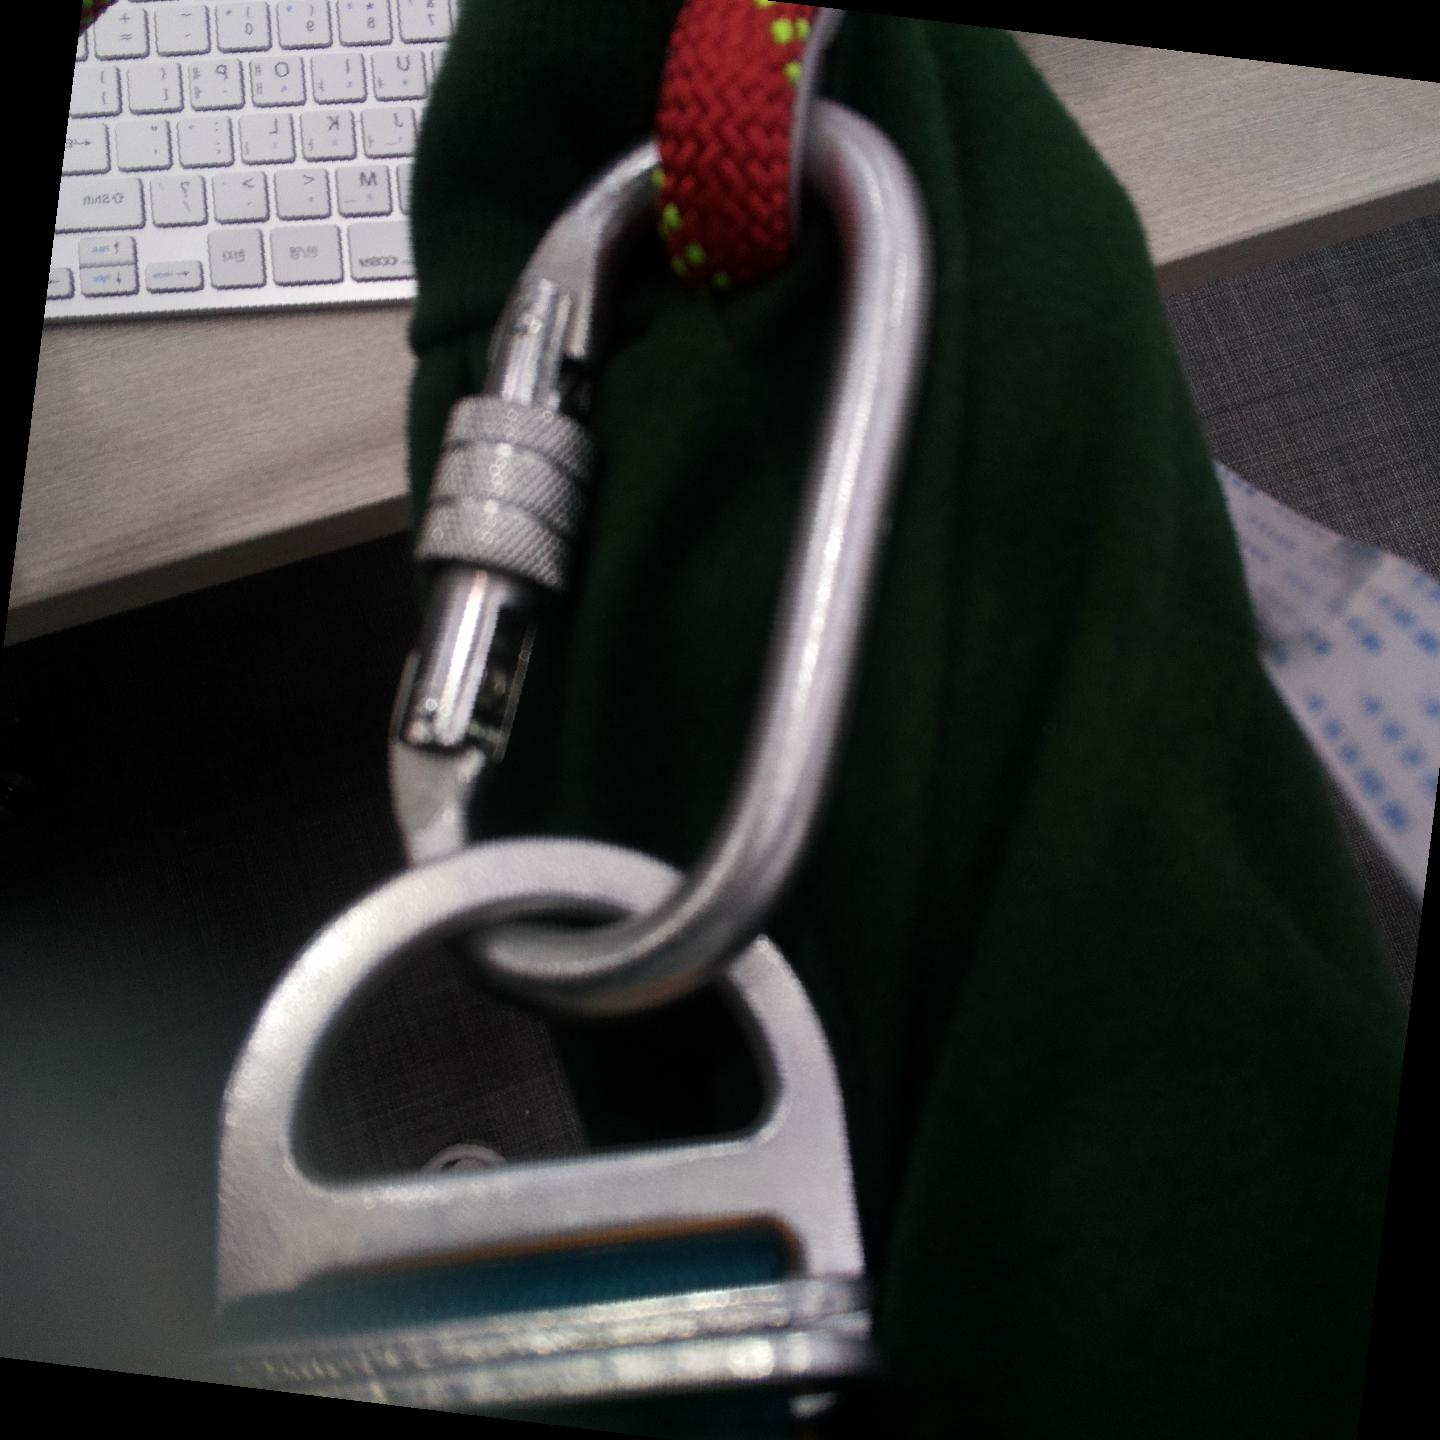SUCCESS: (404, 320, 920, 984)
